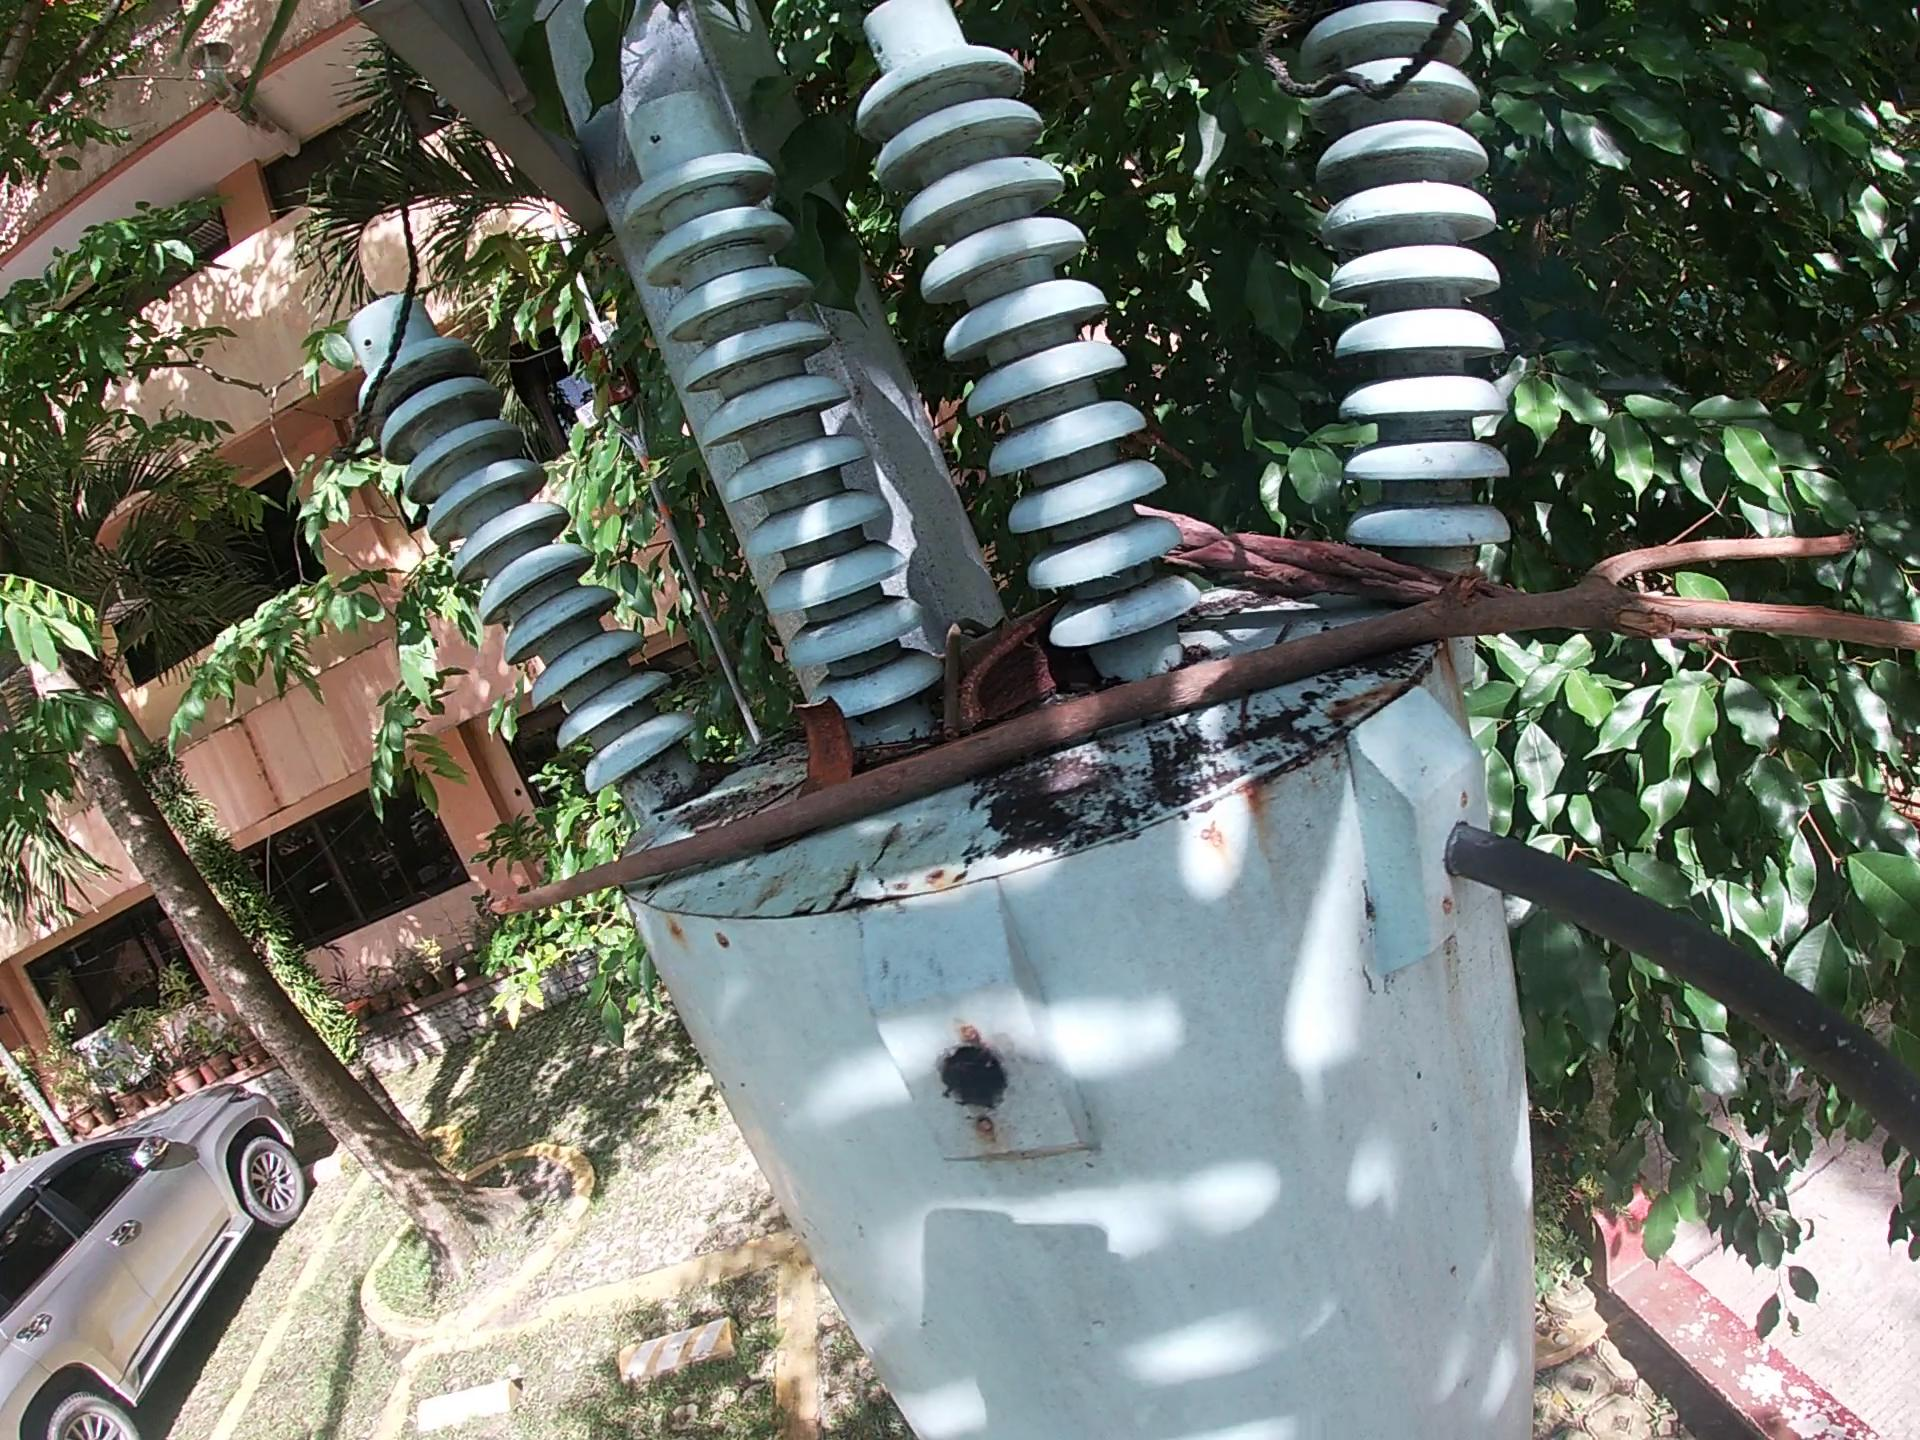mahogany fruit: (949, 590, 1089, 735), (780, 685, 869, 805)
tree branch: (479, 520, 1920, 936), (1134, 501, 1723, 655)
